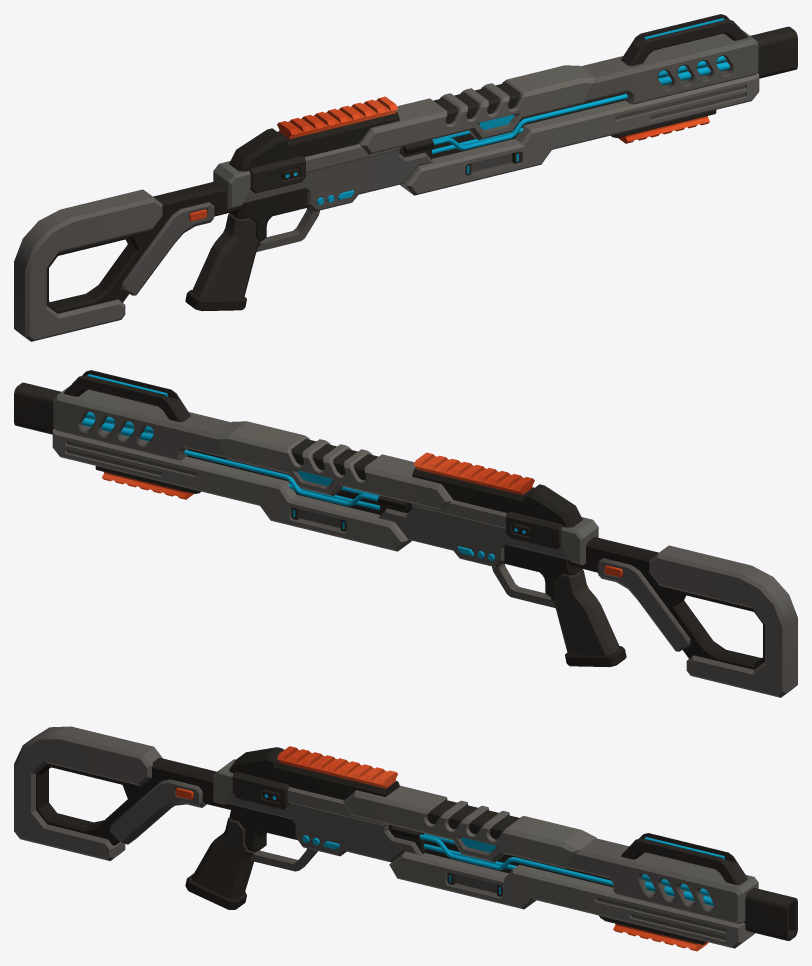
3 views of the same model, one above another, from view 1: azimuth 30°, elevation 25°; view 2: azimuth 150°, elevation 25°; view 3: azimuth 330°, elevation 25° (orthographic).
Visible parts, largest first — view 1: SR5_Base; view 2: SR5_Base; view 3: SR5_Base.
Boxes of the visible parts, x1=… form: SR5_Base: x1=14, y1=14, x2=797, y2=341; SR5_Base: x1=14, y1=370, x2=797, y2=697; SR5_Base: x1=14, y1=726, x2=797, y2=951.
Size of the model in its own units: 106 by 22.32 by 5.03.
